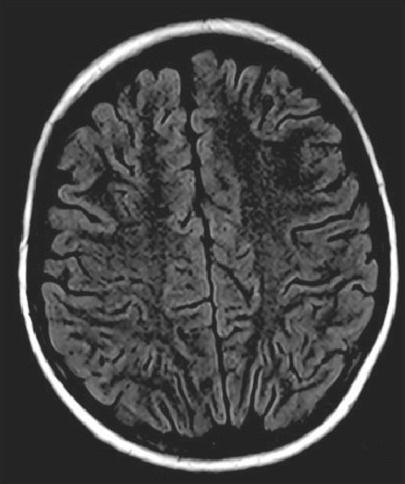Normal_Brain: (9, 1, 405, 484)
